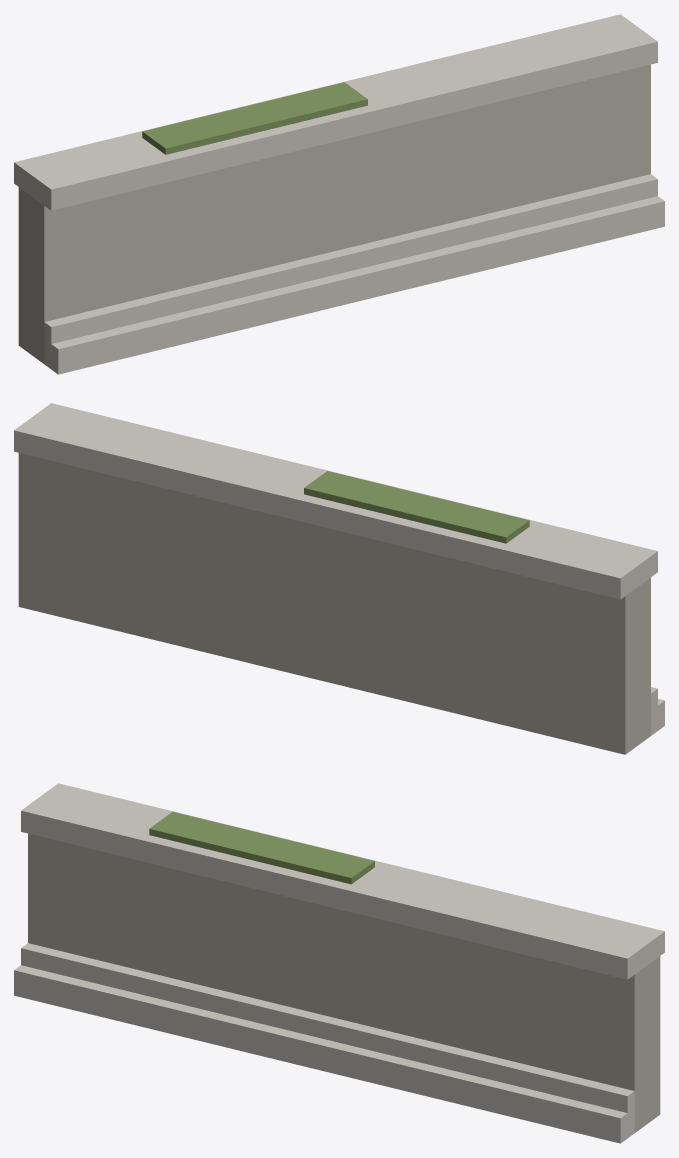
File: roof_parapet.glb
3 views of the same model, one above another, from view 1: azimuth 30°, elevation 25°; view 2: azimuth 150°, elevation 25°; view 3: azimuth 330°, elevation 25° (orthographic).
Parts seen in each view (by area): view 1: roof_parapet; view 2: roof_parapet; view 3: roof_parapet.
Part boxes in pixels (x1=…): roof_parapet: x1=14, y1=14, x2=664, y2=374; roof_parapet: x1=14, y1=403, x2=664, y2=754; roof_parapet: x1=14, y1=783, x2=664, y2=1143.
Size of the model in its own units: 3 by 0.88 by 0.38.
